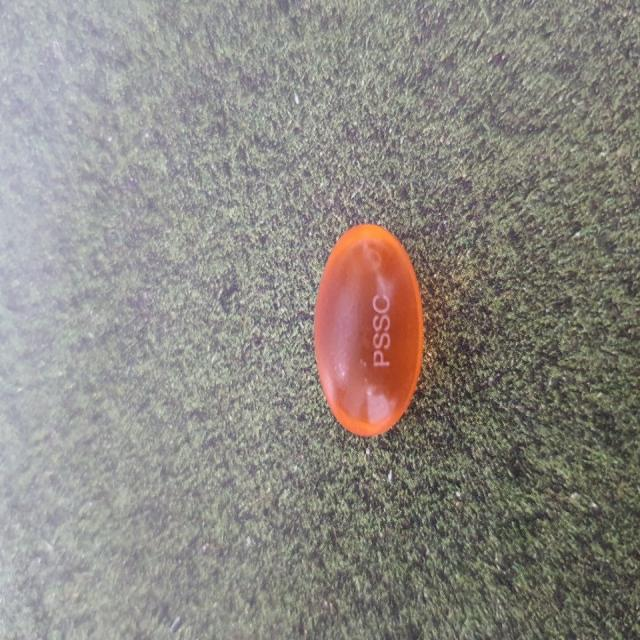pill: (304, 210, 434, 453)
